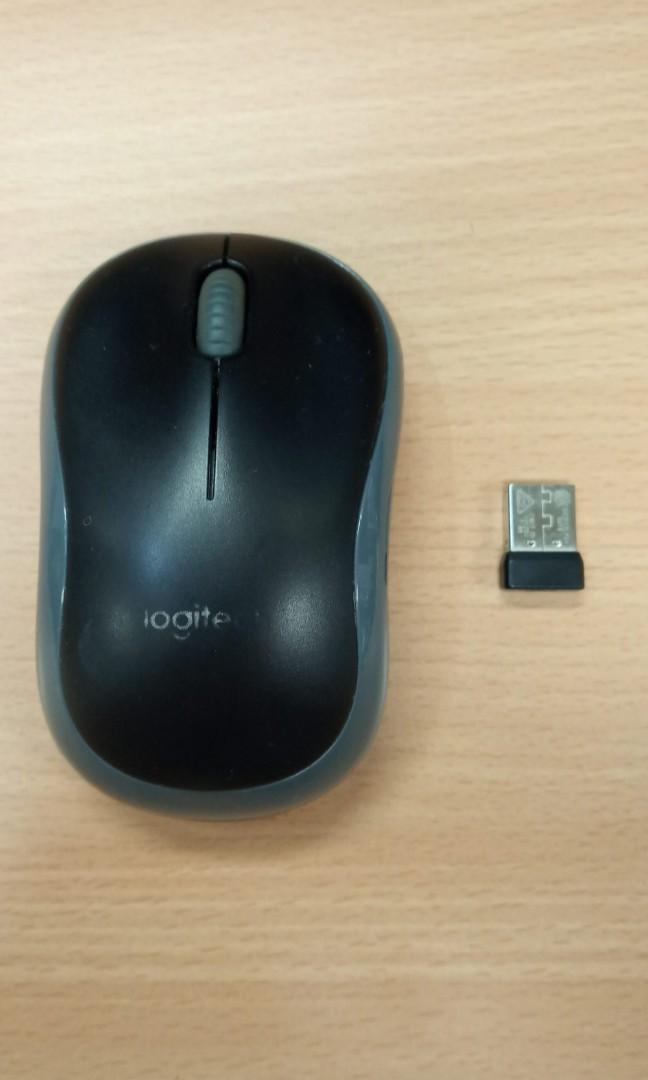logitech-mouse-m185: (22, 235, 603, 820)
